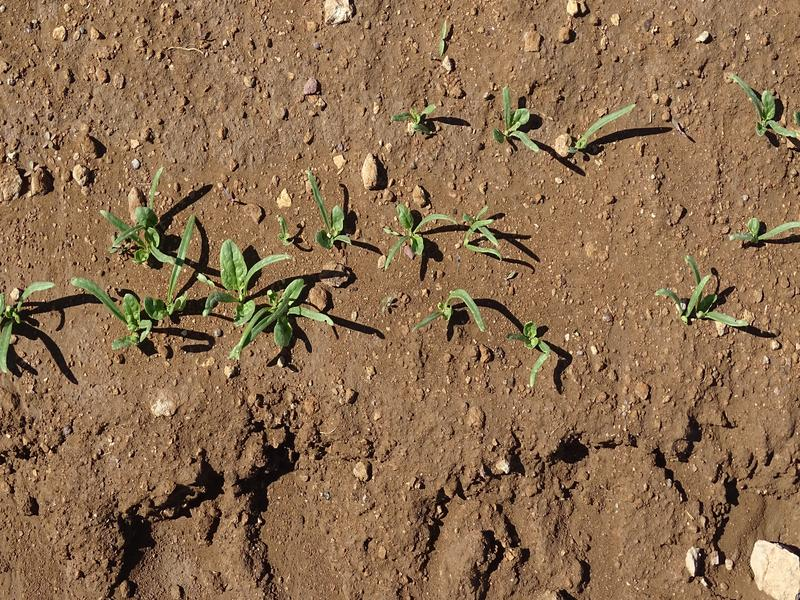Espinaca: (102, 187, 355, 353), (389, 198, 508, 264), (657, 256, 758, 328), (726, 71, 799, 146), (1, 275, 48, 368), (569, 99, 638, 159), (414, 285, 483, 344), (497, 85, 541, 153), (731, 210, 795, 249), (516, 318, 553, 379)
